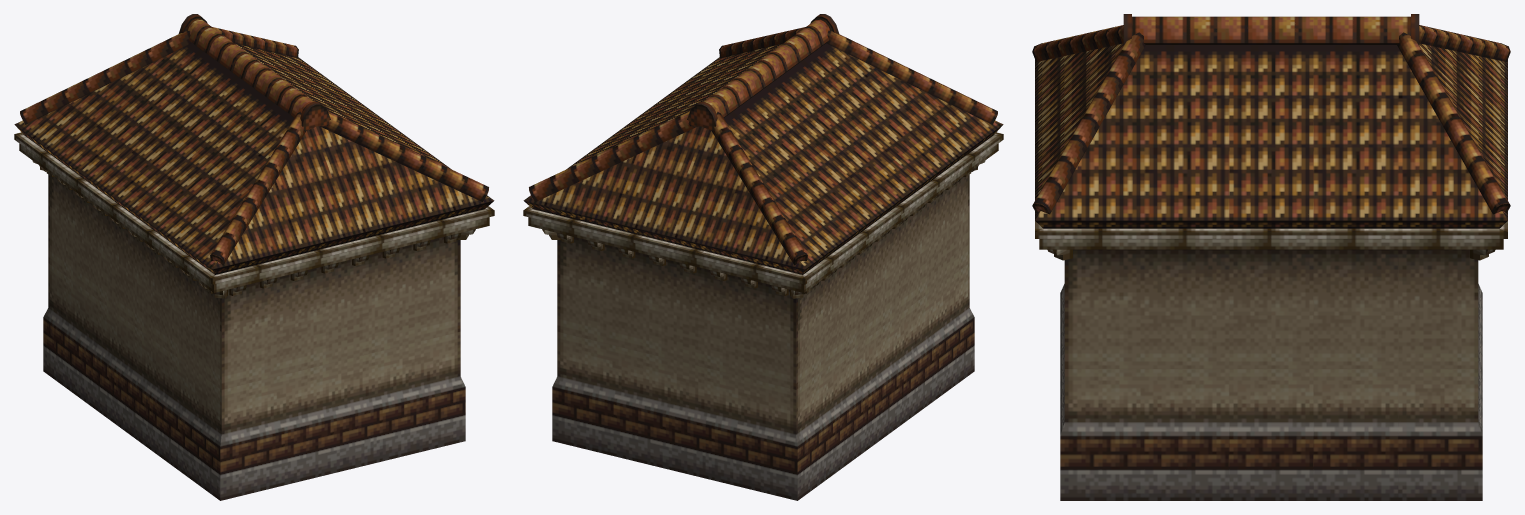
Rendered from EnvBdgMD_Sea_A_Outdoor_House_Scholar.FBX.
3 views of the same model, side by side, from view 1: azimuth 30°, elevation 25°; view 2: azimuth 150°, elevation 25°; view 3: azimuth 270°, elevation 25° (orthographic). The views are drawn at different scales.
Visible parts, largest first — view 1: EnvBdgMD_Sea_A_Outdoor_House_Scholar; view 2: EnvBdgMD_Sea_A_Outdoor_House_Scholar; view 3: EnvBdgMD_Sea_A_Outdoor_House_Scholar.
Boxes of the visible parts, bbox=[...] form: EnvBdgMD_Sea_A_Outdoor_House_Scholar: bbox=[14, 14, 494, 500]; EnvBdgMD_Sea_A_Outdoor_House_Scholar: bbox=[523, 14, 1003, 500]; EnvBdgMD_Sea_A_Outdoor_House_Scholar: bbox=[1032, 14, 1510, 500].
Size of the model in its own units: 460 by 541 by 567.
Materials: 2 (2 with a texture image).
